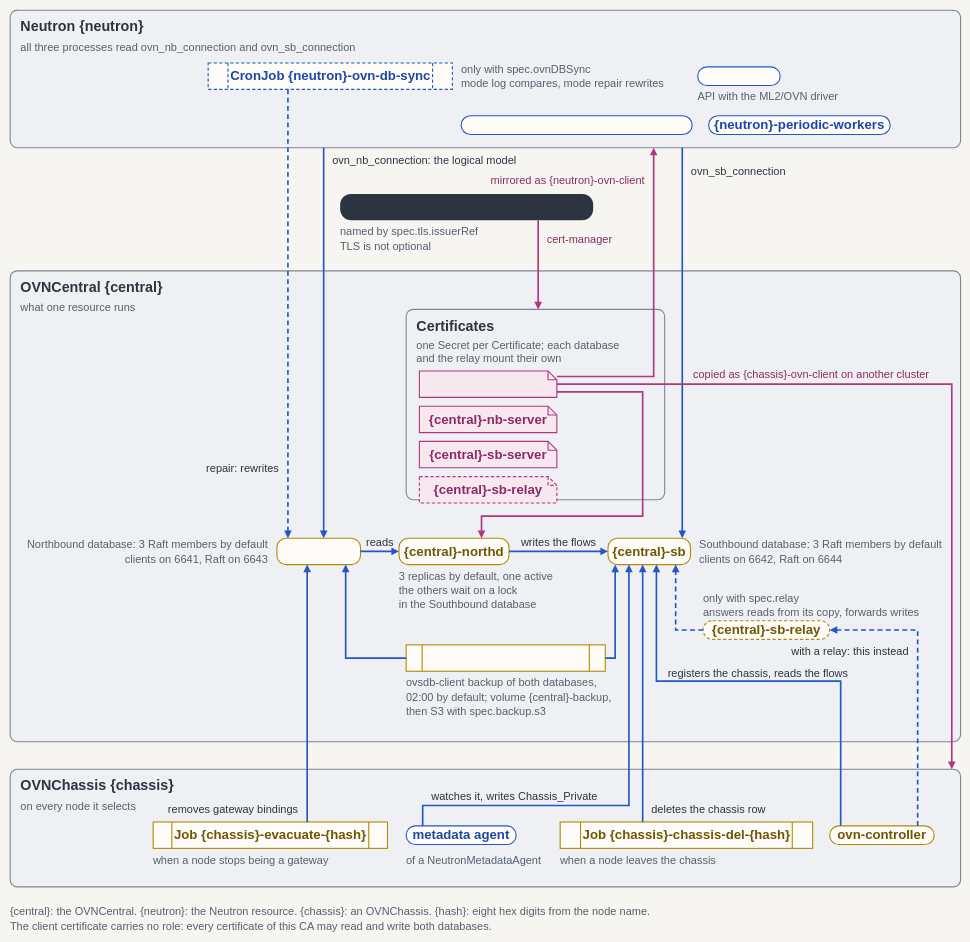
This 970x942 diagram has some shape labels left out. Here are the shapes that lost their labels. From the top down, the box of each, then its label:
(697, 66, 780, 86): {neutron}
(460, 115, 692, 135): {neutron}-ovn-maintenance-worker
(340, 194, 593, 220): ClusterIssuer openstack-ovn-ca-issuer
(419, 370, 557, 398): {central}-client
(276, 537, 361, 565): {central}-nb
(405, 644, 606, 672): CronJob {central}-backup
